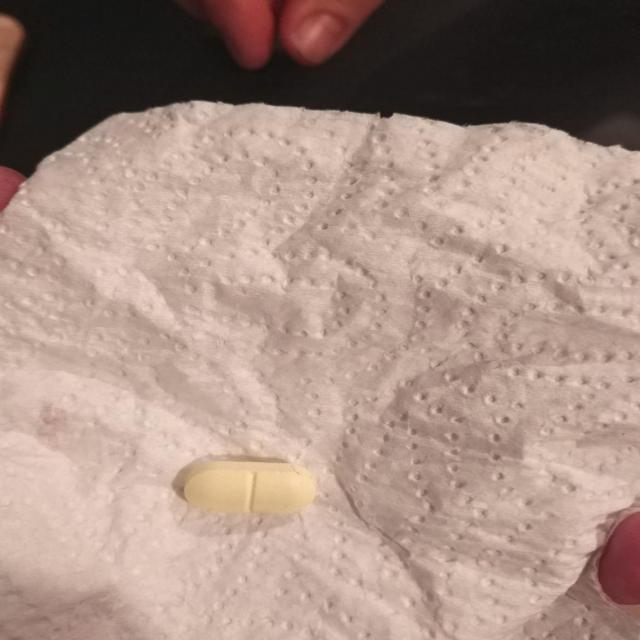pill: (176, 456, 320, 520)
